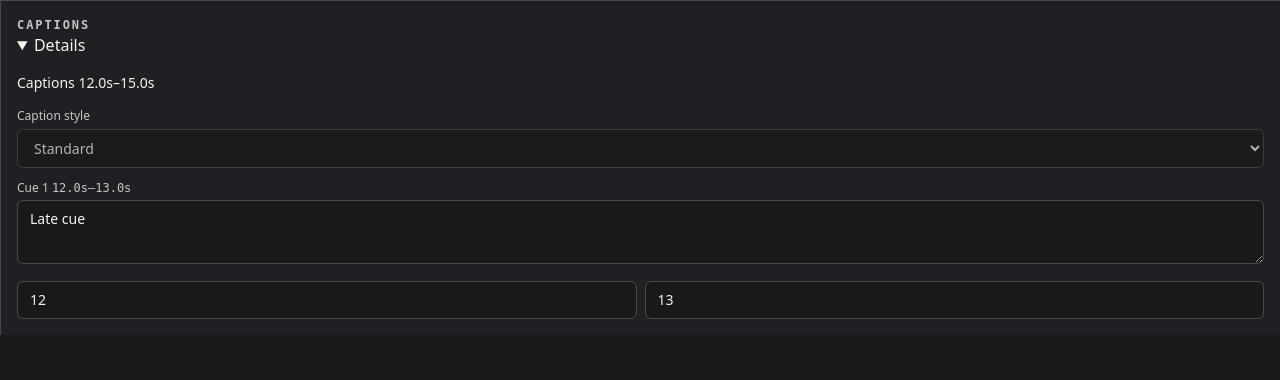
Test: a cue time outside its caption is refused with a visible reason
The width and height of the screenshot is (1280, 380).
Replace the text in the number field named "Caption cue 1 end (seconds)" with "20" at coordinates (954, 300), box 644,281 -> 1264,319
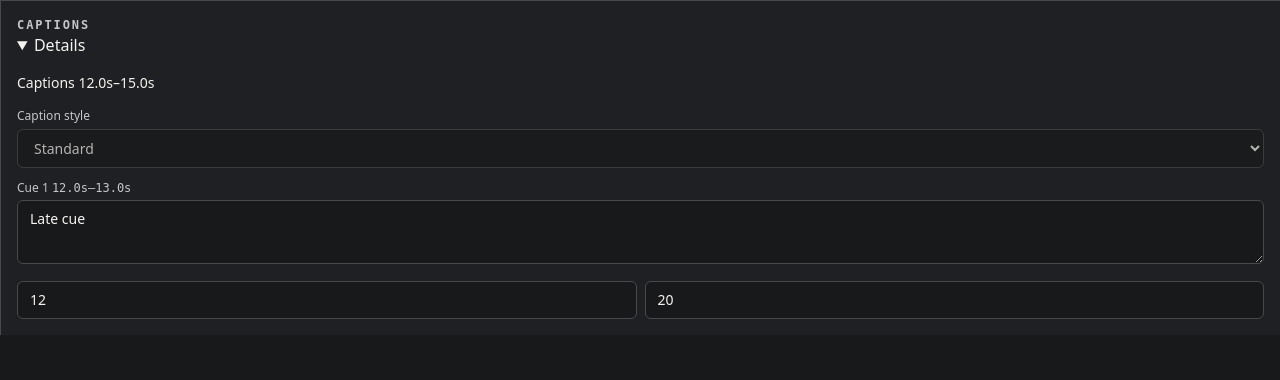
Press Enter in the number field named "Caption cue 1 end (seconds)", box 644,281 -> 1264,319
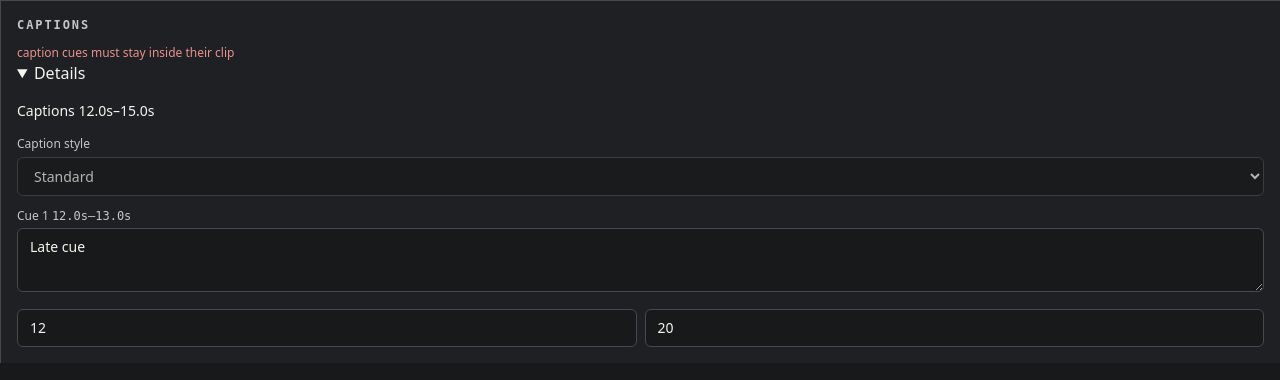
expect the message reads "caption cues must stay inside their clip": met, box 17,44 -> 234,61
